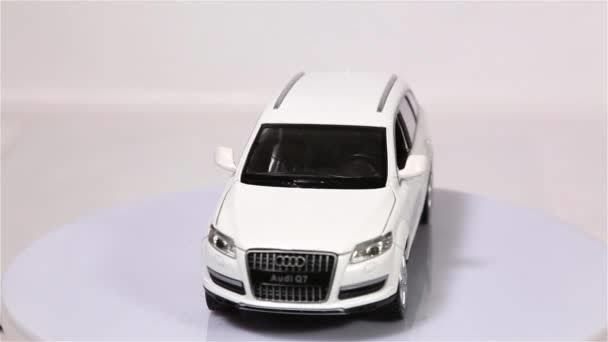audi: (191, 58, 441, 334)
